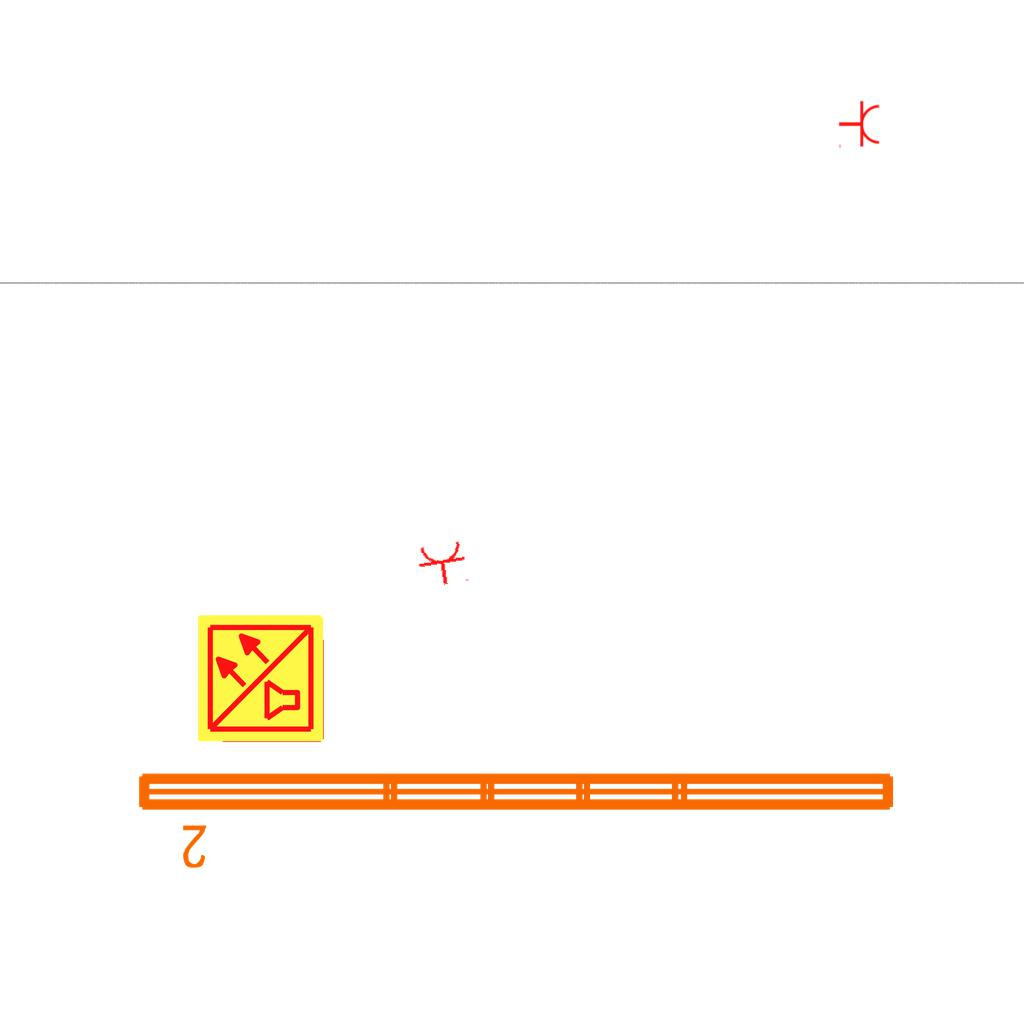Ambulanz_Pendelleuchte_LED: (130, 761, 904, 873)
OKW_Multisensormelder_(Kombination_optischer_Rauch-Kahlenmonoxid_Waerme-Melder): (195, 612, 327, 744)
Schukosteckdose_einfach: (415, 538, 472, 590), (838, 100, 881, 150)
